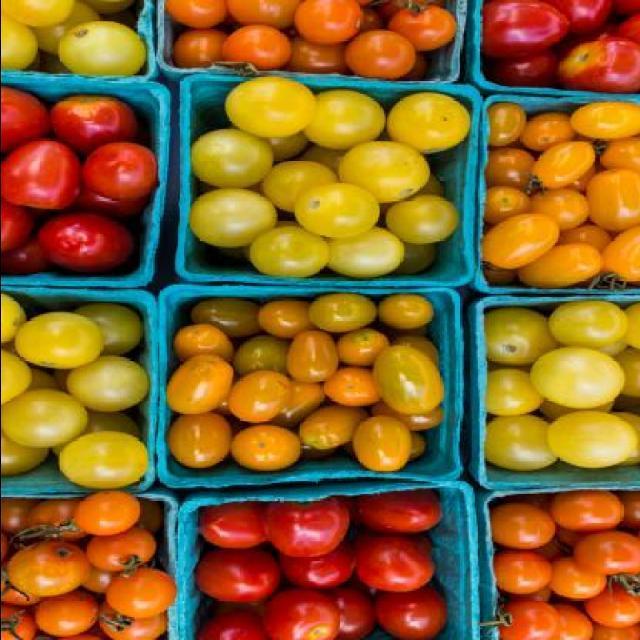Tomato: (2, 0, 640, 638), (189, 556, 277, 609)
